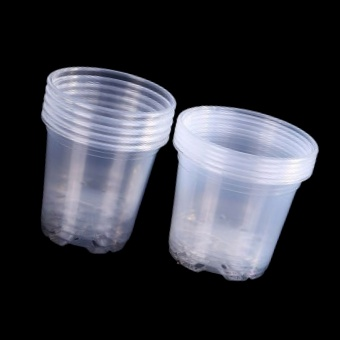plastic: (37, 63, 170, 252), (176, 102, 312, 279)
